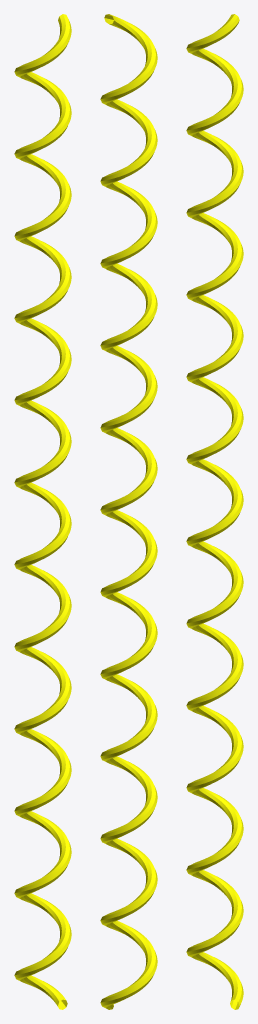
File: Low_Anneaux_Livre.fbx
3 renders of one model, left to right at view 1: azimuth 30°, elevation 25°; view 2: azimuth 150°, elevation 25°; view 3: azimuth 330°, elevation 25°, orthographic.
Parts seen in each view (by area): view 1: Anneaux_Livre; view 2: Anneaux_Livre; view 3: Anneaux_Livre.
Boxes of the visible parts, x1,y1,x2,y2 form: Anneaux_Livre: [14, 14, 71, 1009]; Anneaux_Livre: [100, 14, 157, 1009]; Anneaux_Livre: [186, 14, 243, 1009].
Bounding box in the file's own units: 1 × 19.2 × 0.998.
